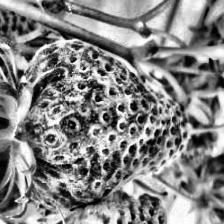Powdery Mildew Fruit: (9, 39, 192, 212)
